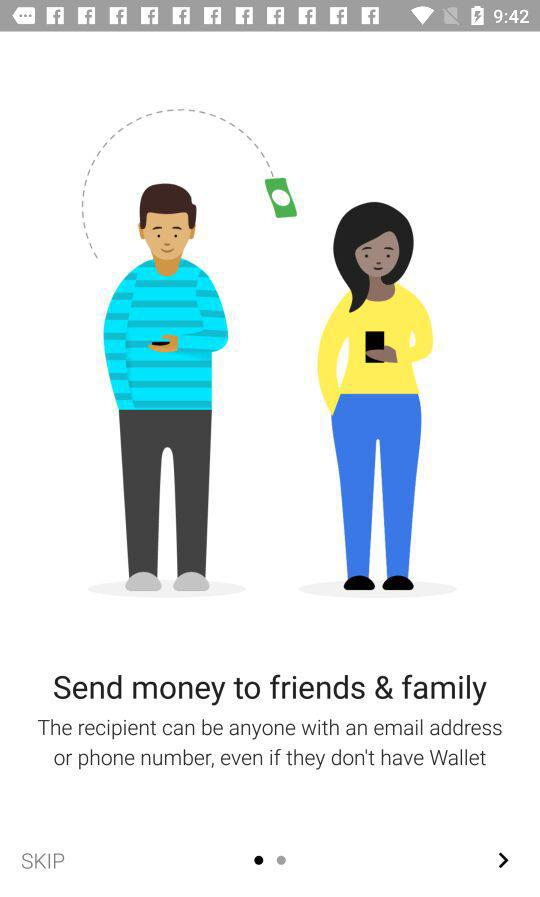Icon: (498, 851, 510, 868)
Image: (81, 108, 460, 600)
PageIndicator: (254, 855, 288, 867)
Text: (38, 718, 503, 771), (53, 673, 488, 707), (21, 852, 66, 871)
UpperTaskBar: (1, 1, 540, 33)
